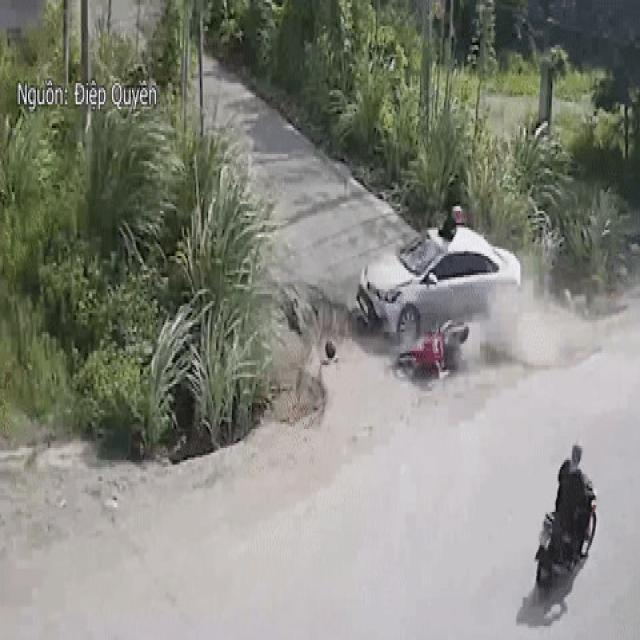multiple_accident: (352, 195, 531, 390)
normal: (496, 417, 606, 620)
